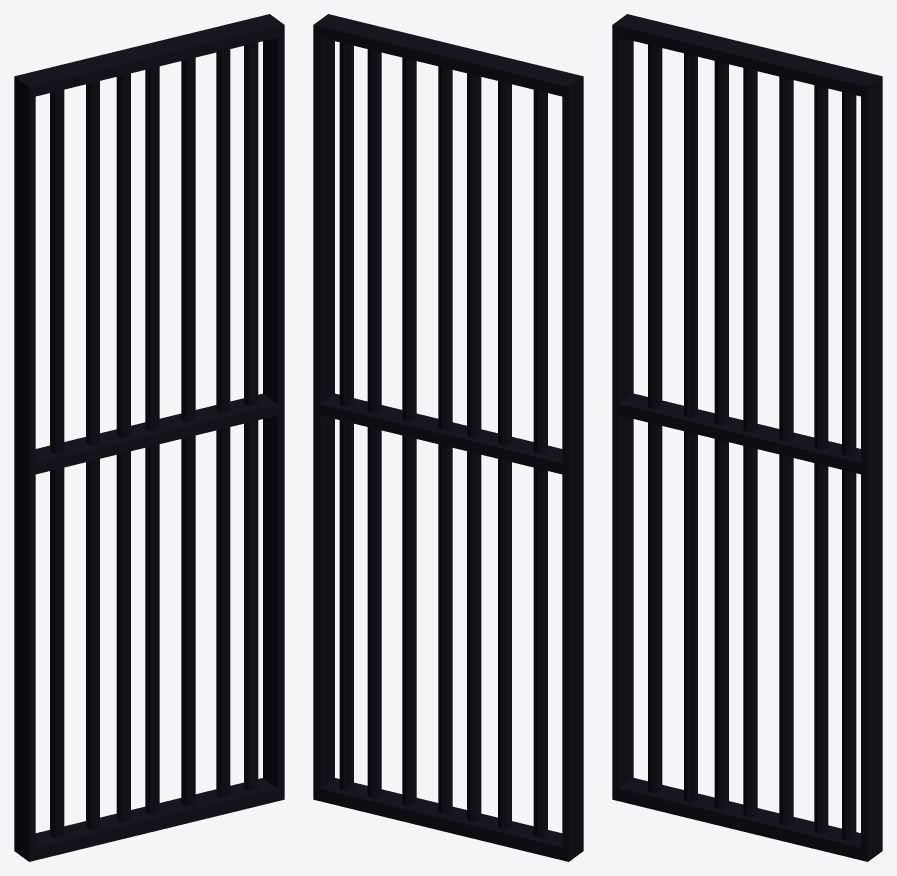
The model's file is lattice.fbx.
The picture shows the model from 3 angles, left to right: view 1: azimuth 30°, elevation 25°; view 2: azimuth 150°, elevation 25°; view 3: azimuth 330°, elevation 25°; orthographic projection.
Parts seen in each view (by area): view 1: lattice; view 2: lattice; view 3: lattice.
Part boxes in pixels (x1,y1,x2,y2): lattice: (14,14,284,861); lattice: (313,14,583,861); lattice: (612,14,882,861).
Size of the model in its own units: 100 by 290 by 10.
Materials: 1 (1 with a texture image).
